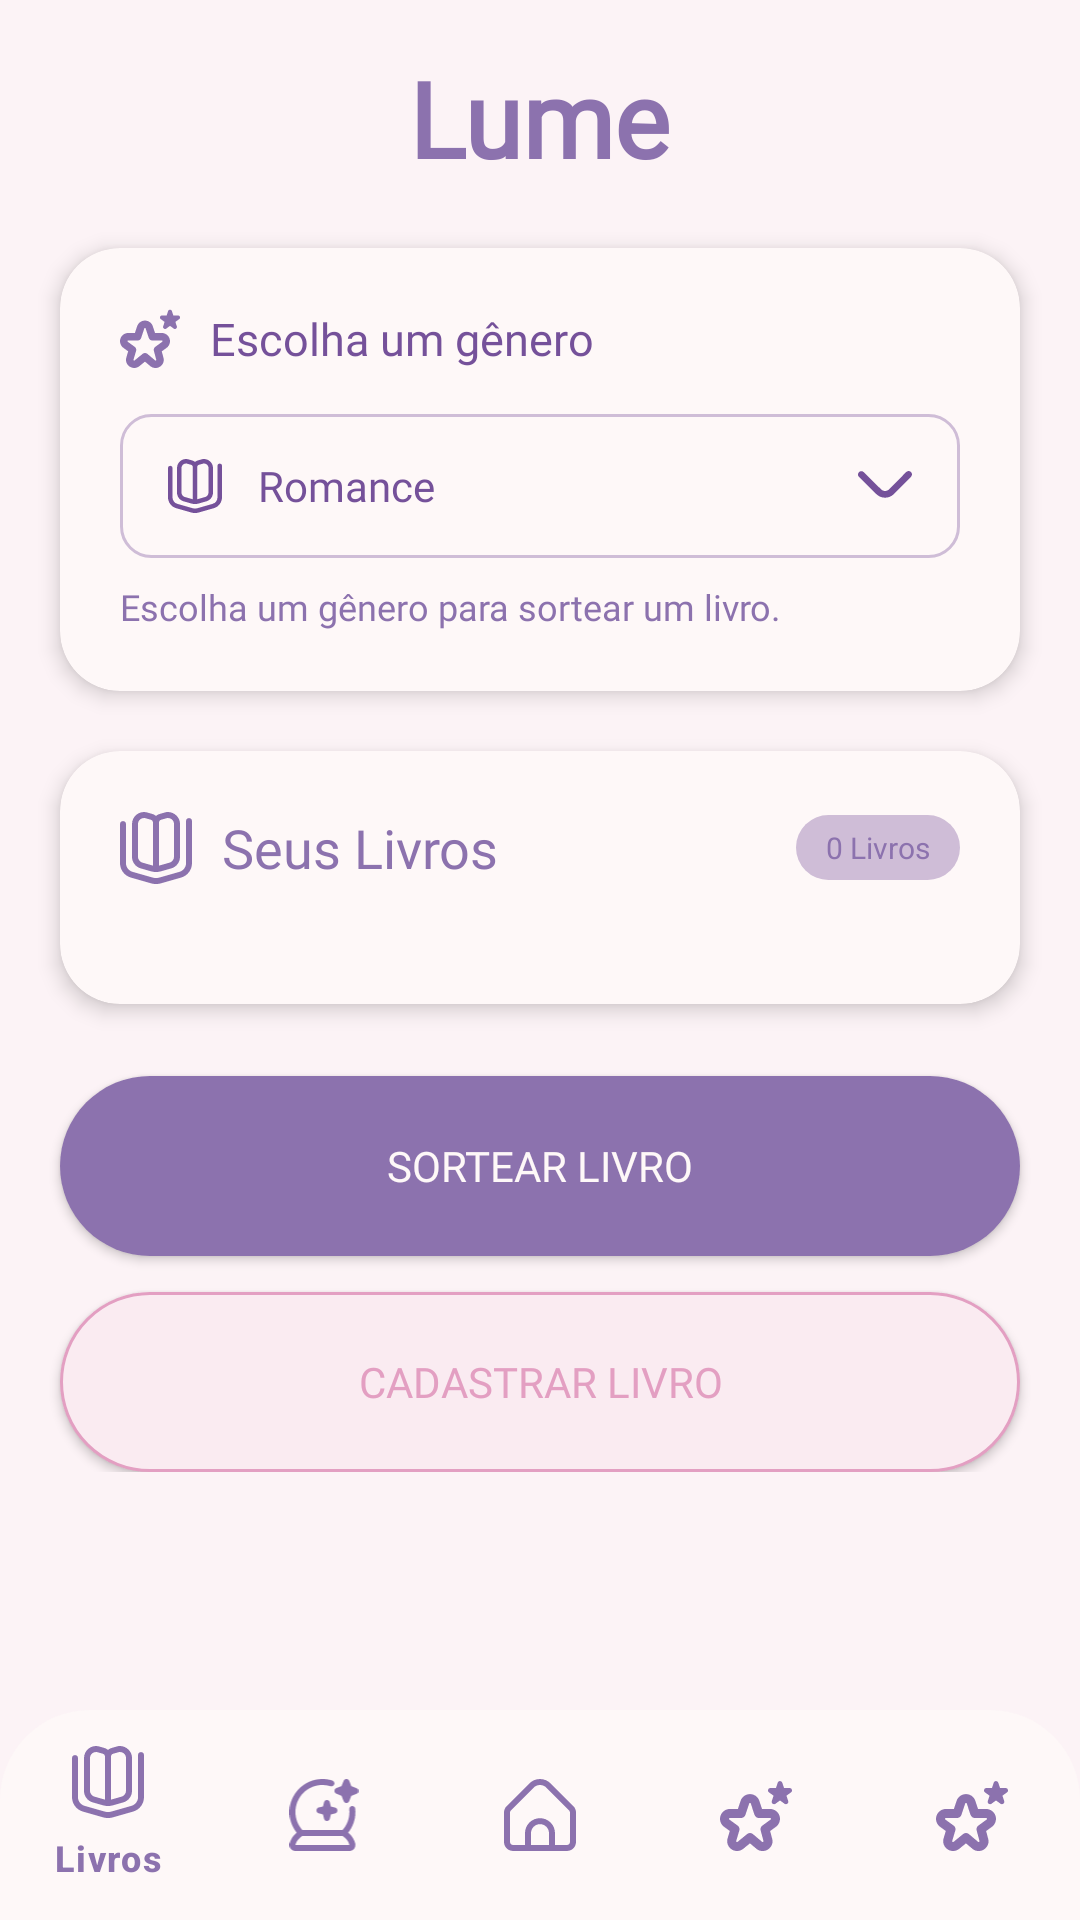

Point at icon controls on the screen. Image size 1080×1920, points as point (x, y).
book: point (195, 486), point (156, 848)
expand more: point (885, 484)
star: point (150, 338)
